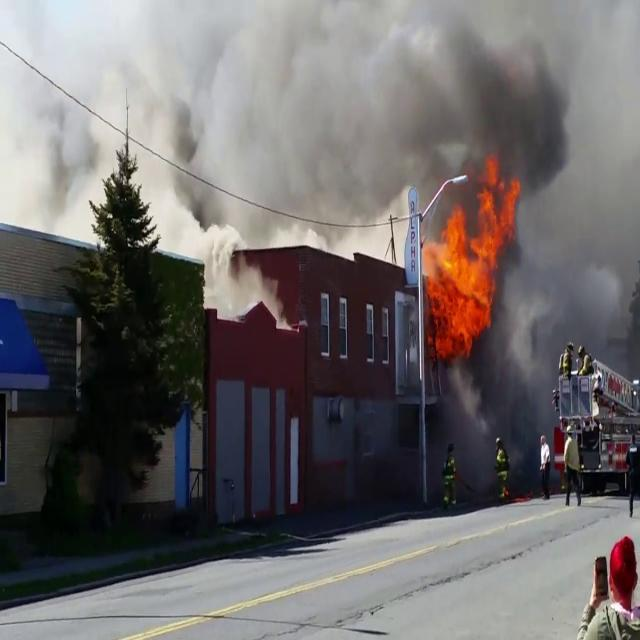Fire: (421, 162, 516, 356)
Smoke: (157, 0, 576, 215), (485, 0, 640, 429), (0, 4, 103, 236)
